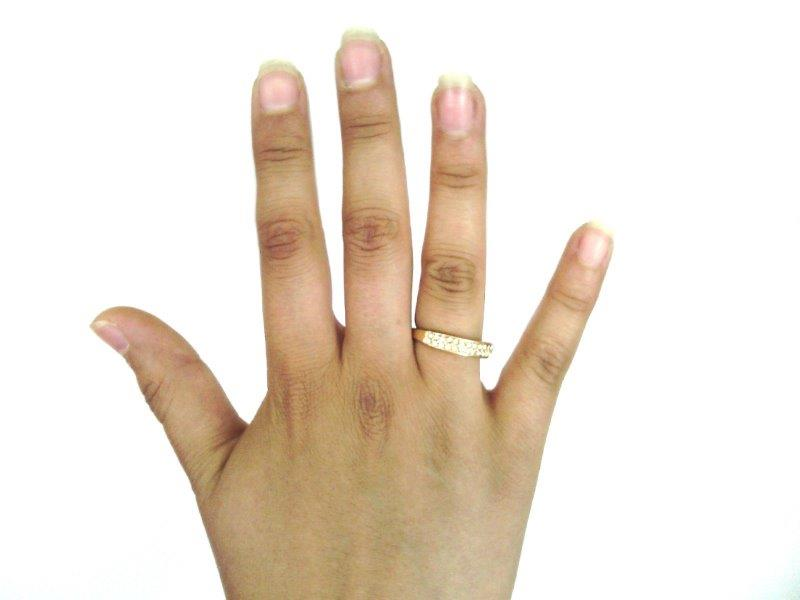hand: (92, 28, 613, 595)
